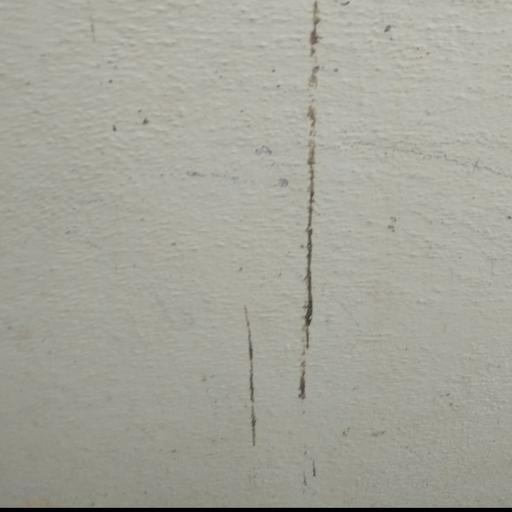stain: (228, 0, 344, 502)
